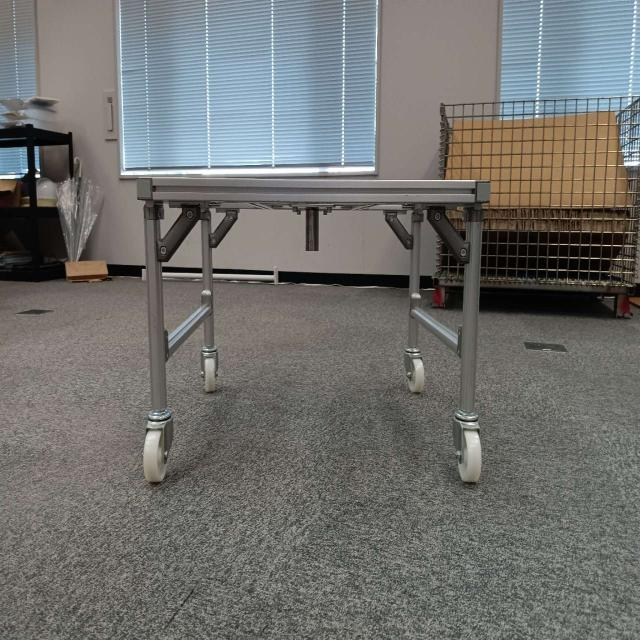door: (138, 175, 485, 260)
